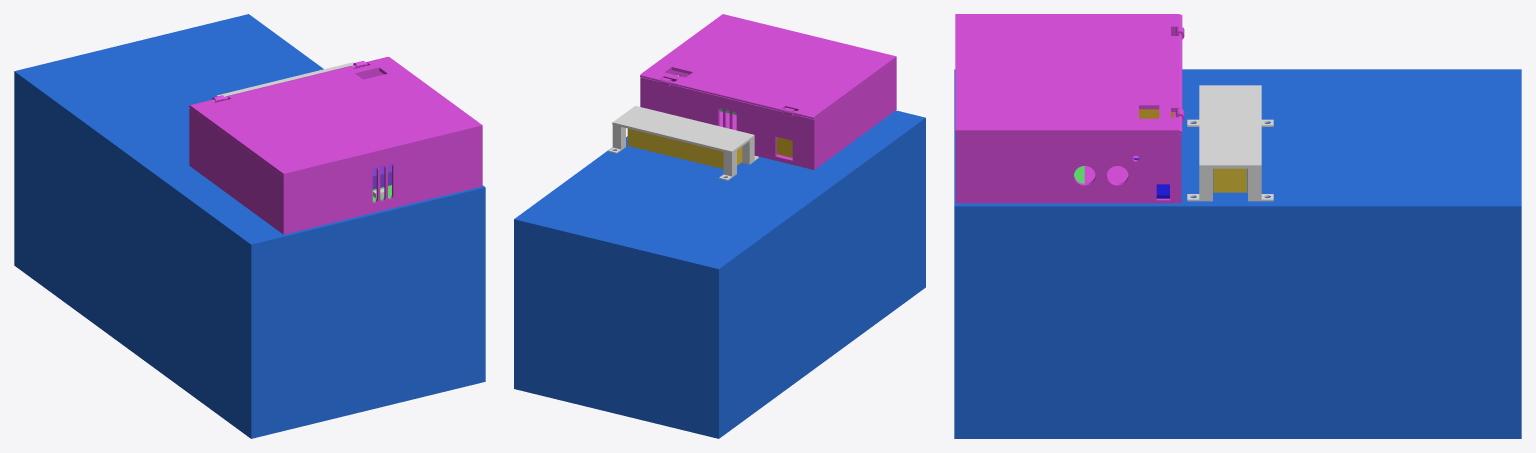
The model's file is wadahalat5.glb.
3 renders of one model, left to right at view 1: azimuth 30°, elevation 25°; view 2: azimuth 150°, elevation 25°; view 3: azimuth 270°, elevation 25°, orthographic. The views are drawn at different scales.
Visible parts, largest first — view 1: Cube.005, Tutup, Kotak, Cube.001; view 2: Cube.005, Tutup, Kotak, Cube.001, Cube; view 3: Cube.005, Tutup, Kotak, Cube.001, Cube.
Boxes of the visible parts, box(x1,y1,x2,y2) form: Cube.005: box(14, 14, 485, 438); Tutup: box(189, 57, 482, 176); Kotak: box(189, 61, 482, 234); Cube.001: box(216, 62, 353, 96); Cube.005: box(514, 110, 925, 438); Tutup: box(640, 14, 896, 118); Kotak: box(640, 59, 896, 169); Cube.001: box(608, 105, 758, 180); Cube: box(627, 128, 742, 168); Cube.005: box(954, 69, 1521, 438); Tutup: box(955, 14, 1182, 134); Kotak: box(955, 26, 1184, 203); Cube.001: box(1187, 85, 1273, 201); Cube: box(1213, 168, 1247, 192).
Size of the model in its own units: 0.24 by 0.2527 by 0.42.
